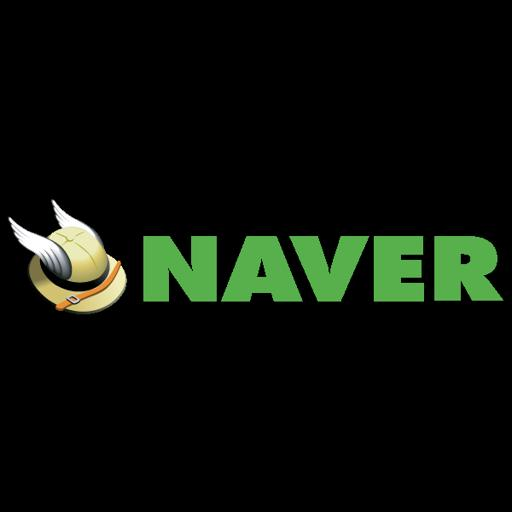Naver: (0, 196, 512, 316)
